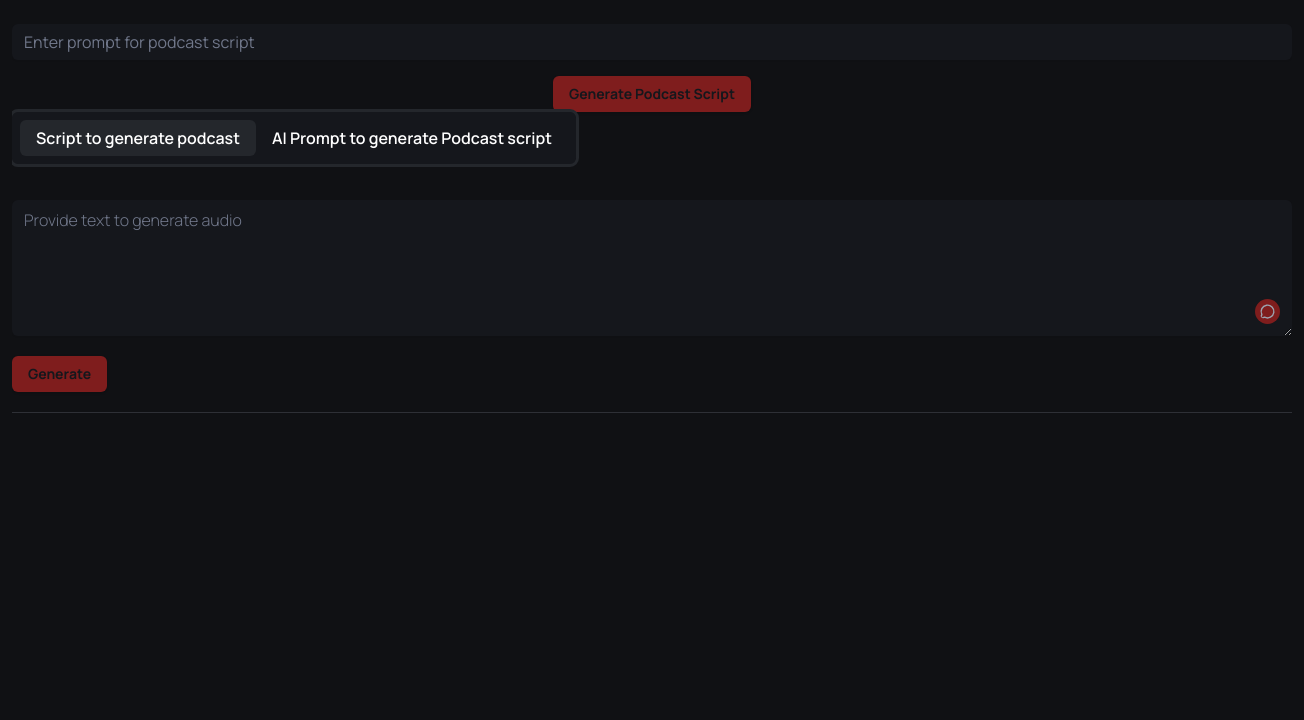
Integration Test: GeneratePodcast and GeneratePodcastScript › should generate a podcast script and set it in GeneratePodcast
The image size is (1304, 720).
Note: Simulate entering a prompt and generating a script
Type "Test prompt" into the field with placeholder "Enter prompt for podcast script" at point(652, 42), box [12,24,1292,60]
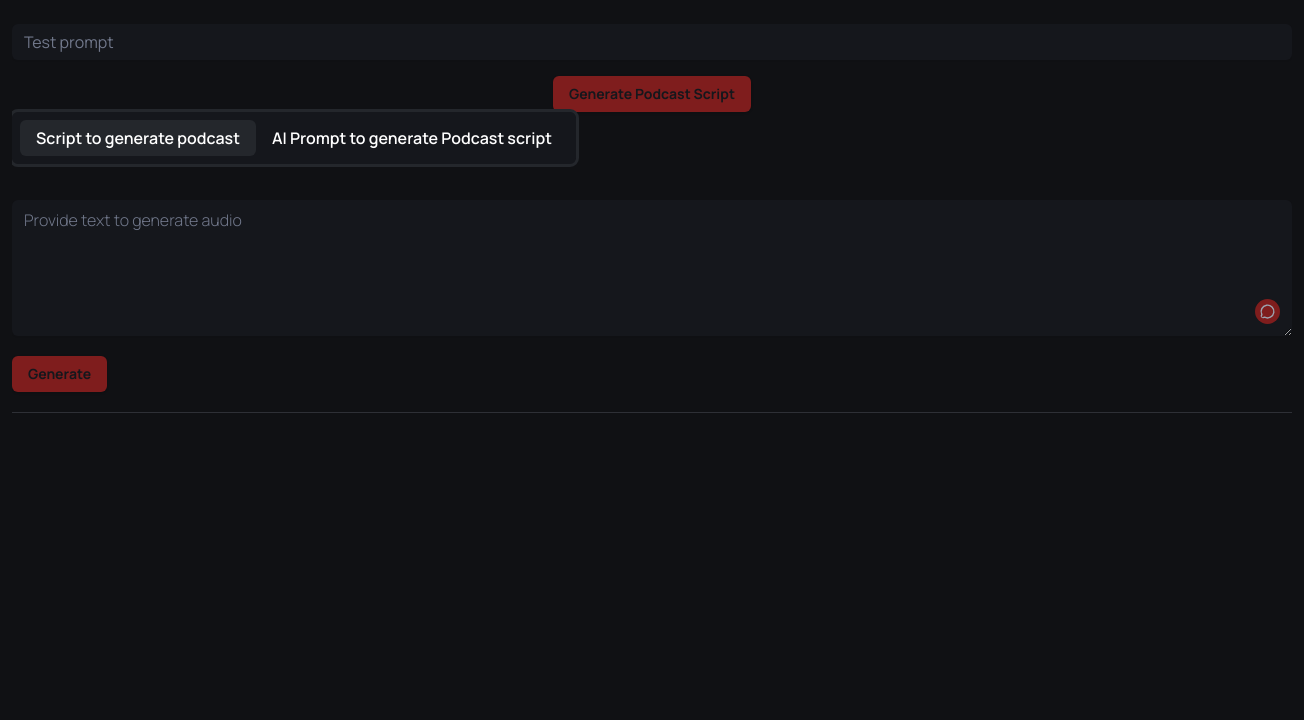
Click the button "Generate Podcast Script" at point(652, 94), box [553,76,751,112]
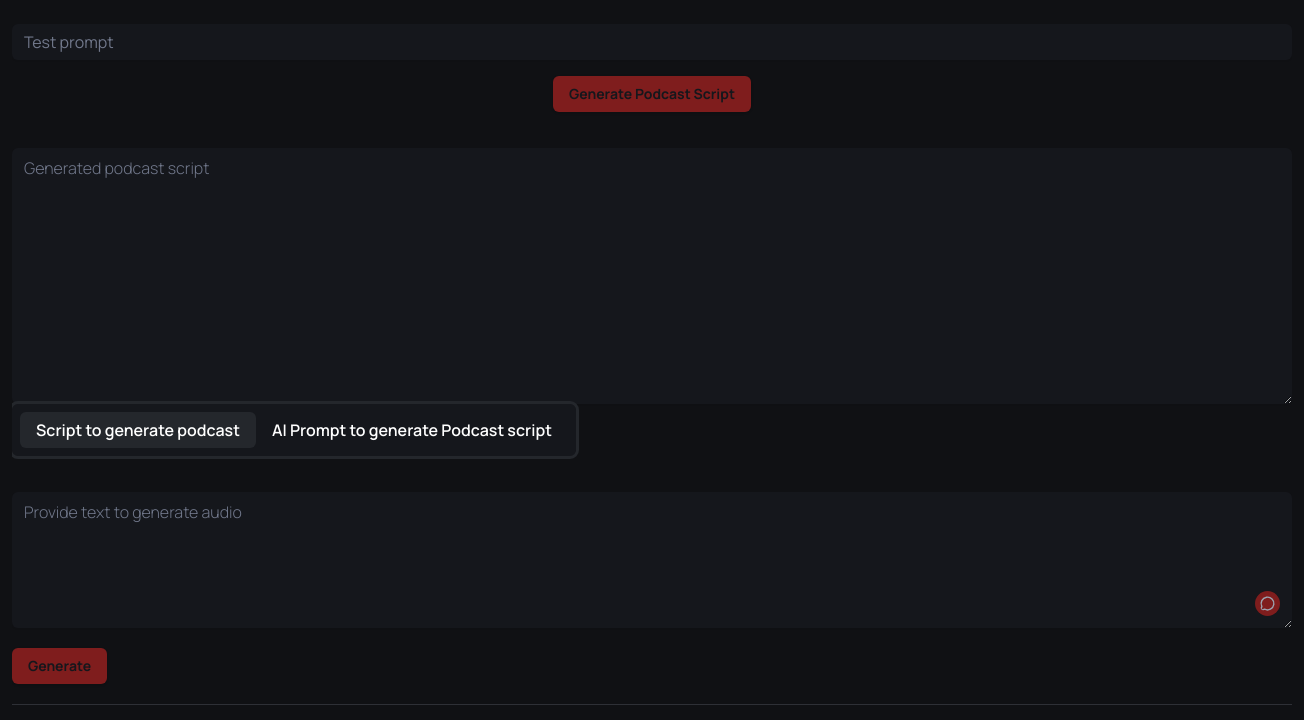
Expected: the text box showing "Generated podcast script" is shown, [12,148,1292,404]
